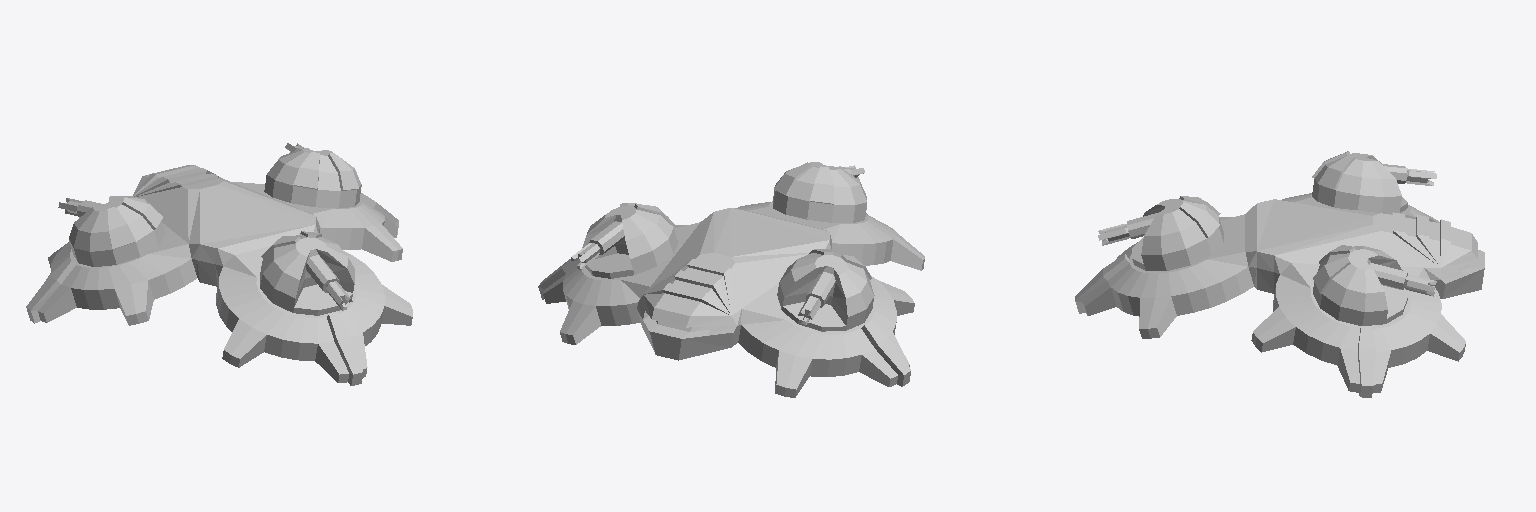
File: gunship - latest-adjusted turrets.obj
3 renders of one model, left to right at view 1: azimuth 30°, elevation 25°; view 2: azimuth 150°, elevation 25°; view 3: azimuth 270°, elevation 25°, orthographic.
Visible parts, largest first — view 1: cylinder2_sep10; view 2: cylinder2_sep10; view 3: cylinder2_sep10.
Part boxes in pixels (bbox=[...]): cylinder2_sep10: bbox=[26, 143, 412, 385]; cylinder2_sep10: bbox=[538, 162, 924, 397]; cylinder2_sep10: bbox=[1075, 151, 1484, 397].
Bounding box in the file's own units: 6.78 × 1.96 × 6.52.